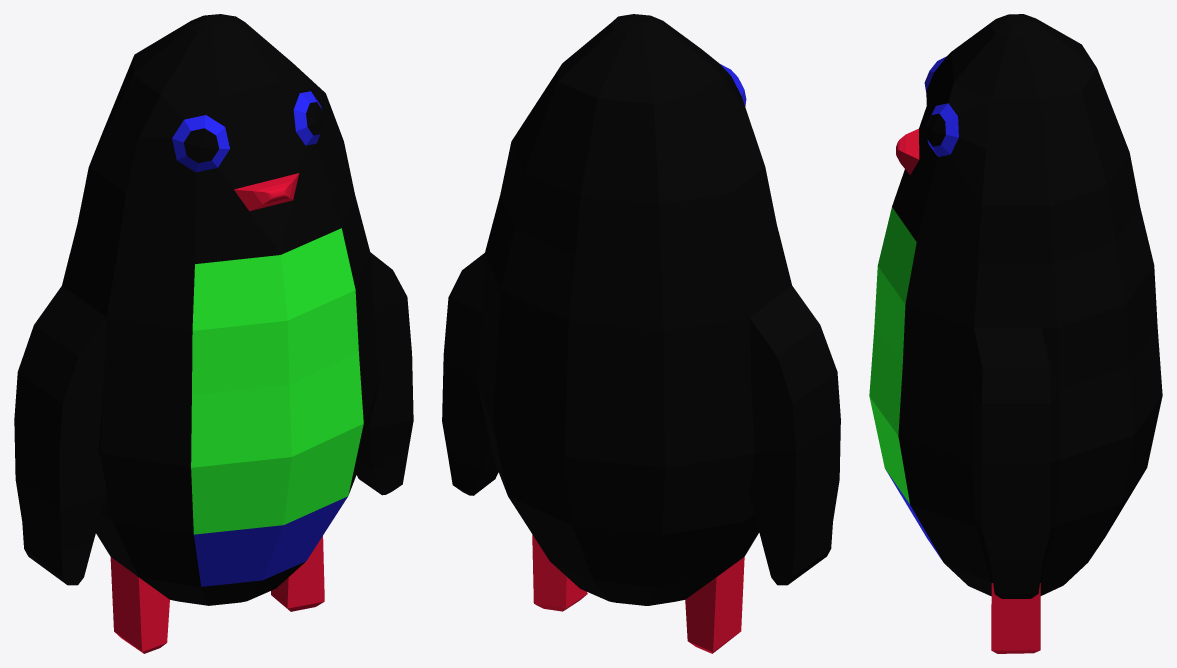
File: penguinTest.glb
The picture shows the model from 3 angles, left to right: view 1: azimuth 30°, elevation 25°; view 2: azimuth 150°, elevation 25°; view 3: azimuth 270°, elevation 25°; orthographic projection. The views are drawn at different scales.
Visible parts, largest first — view 1: Cone; view 2: Cone; view 3: Cone.
Part boxes in pixels (x1,y1,x2,y2): Cone: (14, 14, 413, 653); Cone: (442, 14, 840, 653); Cone: (869, 14, 1162, 653).
Size of the model in its own units: 1.72 by 2.78 by 1.24.
